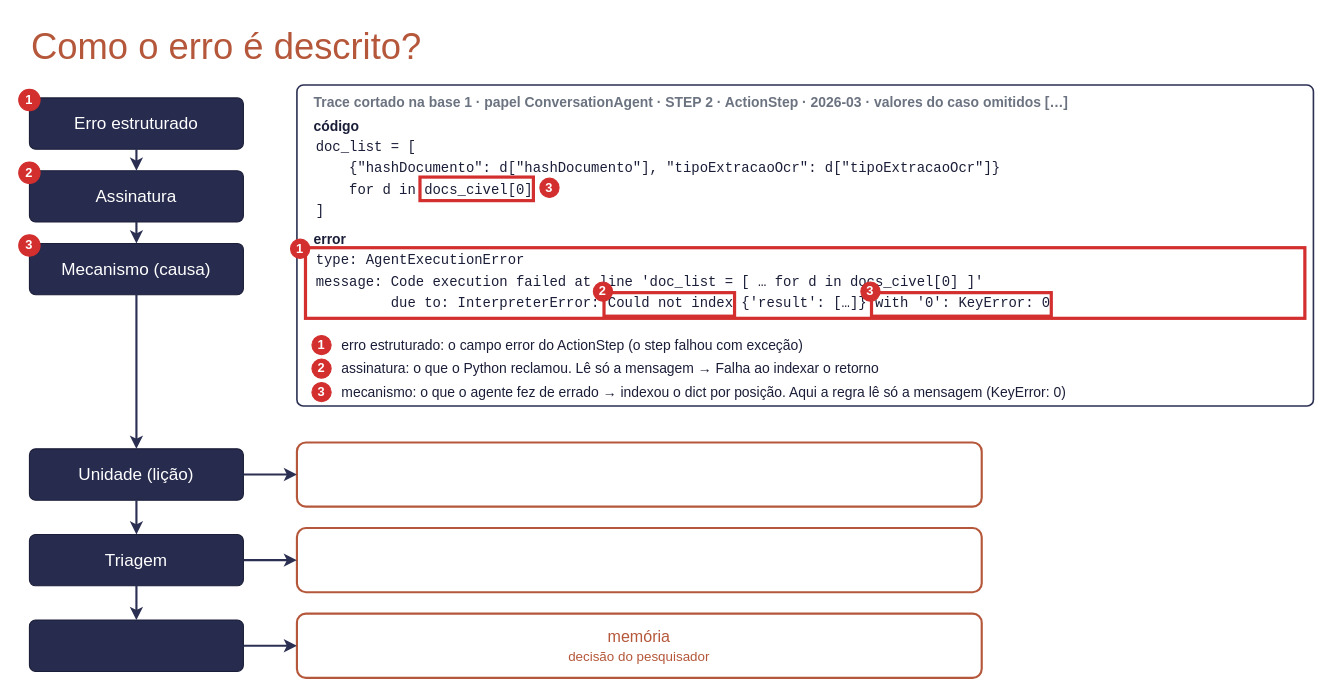
The diagram is 1333 pixels wide and 697 high, and some of its shapes have lost their labels. Here are the shapes that lost their labels. From the top down, the centre of each, then its label:
At [638,474]: "U_contrato_dict Retorno das ferramentas de documento é dict".
At [638,559]: "candidato 87 execuções em 8 meses · régua: ≥ 3 execuções e ≥ 2 meses".
At [135,645]: "Destino pré-investigação".
